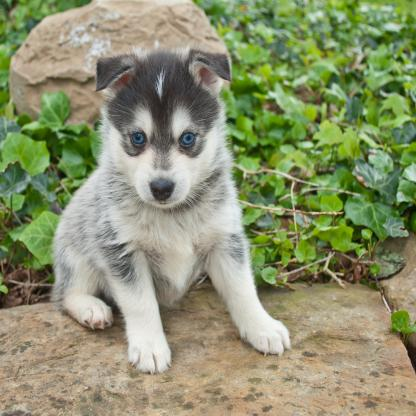dog: (48, 48, 291, 373)
